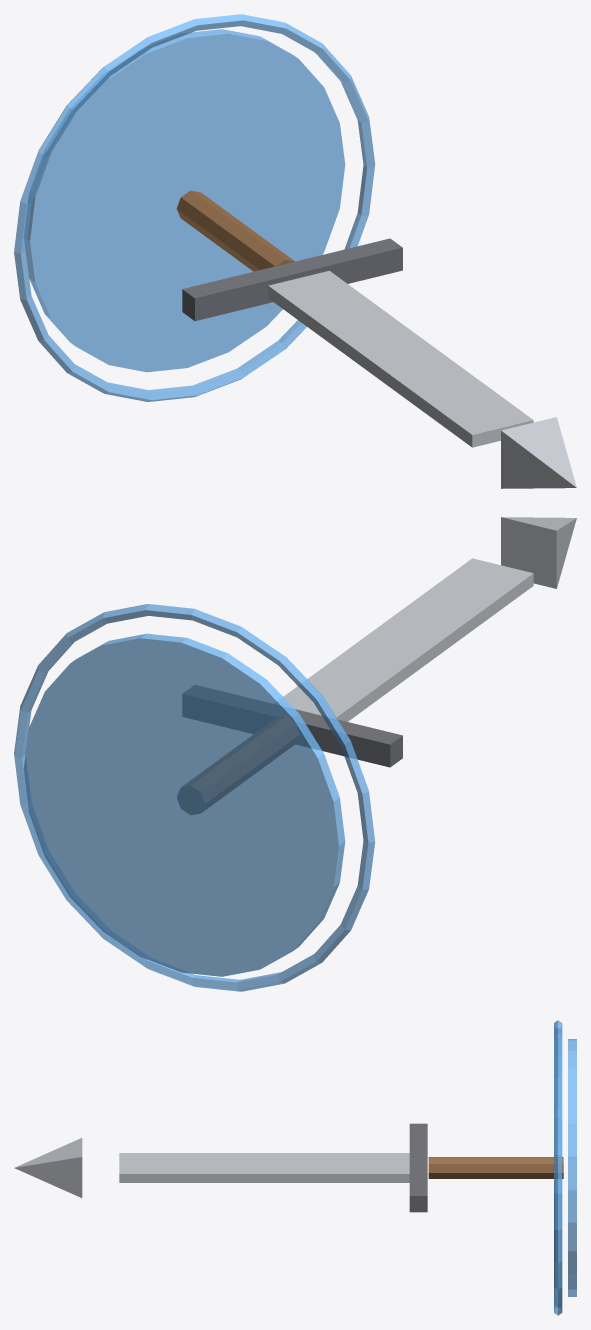
File: weapon_pickup_greatsword_rare.glb
3 renders of one model, top to bottom at view 1: azimuth 30°, elevation 25°; view 2: azimuth 150°, elevation 25°; view 3: azimuth 270°, elevation 25°, orthographic. The views are drawn at different scales.
Parts seen in each view (by area): view 1: rarity_base_disc, blade, rarity_orbit_ring, guard, tip, grip; view 2: rarity_base_disc, blade, rarity_orbit_ring, guard, grip, tip; view 3: blade, grip, rarity_orbit_ring, rarity_base_disc, tip, guard.
Part boxes in pixels (bbox=[...]): rarity_base_disc: bbox=[24, 29, 345, 372]; blade: bbox=[268, 270, 533, 447]; rarity_orbit_ring: bbox=[14, 14, 375, 401]; guard: bbox=[182, 238, 402, 321]; tip: bbox=[501, 417, 576, 488]; grip: bbox=[176, 190, 294, 271]; rarity_base_disc: bbox=[23, 633, 345, 976]; blade: bbox=[274, 558, 533, 721]; rarity_orbit_ring: bbox=[14, 604, 375, 991]; guard: bbox=[183, 685, 402, 767]; grip: bbox=[177, 717, 298, 814]; tip: bbox=[501, 517, 576, 588]; blade: bbox=[119, 1153, 409, 1182]; grip: bbox=[428, 1157, 563, 1178]; rarity_orbit_ring: bbox=[554, 1020, 562, 1315]; rarity_base_disc: bbox=[568, 1039, 576, 1296]; tip: bbox=[14, 1138, 82, 1197]; guard: bbox=[409, 1123, 427, 1212].
Size of the model in its own units: 1.65 by 1.65 by 3.13.
